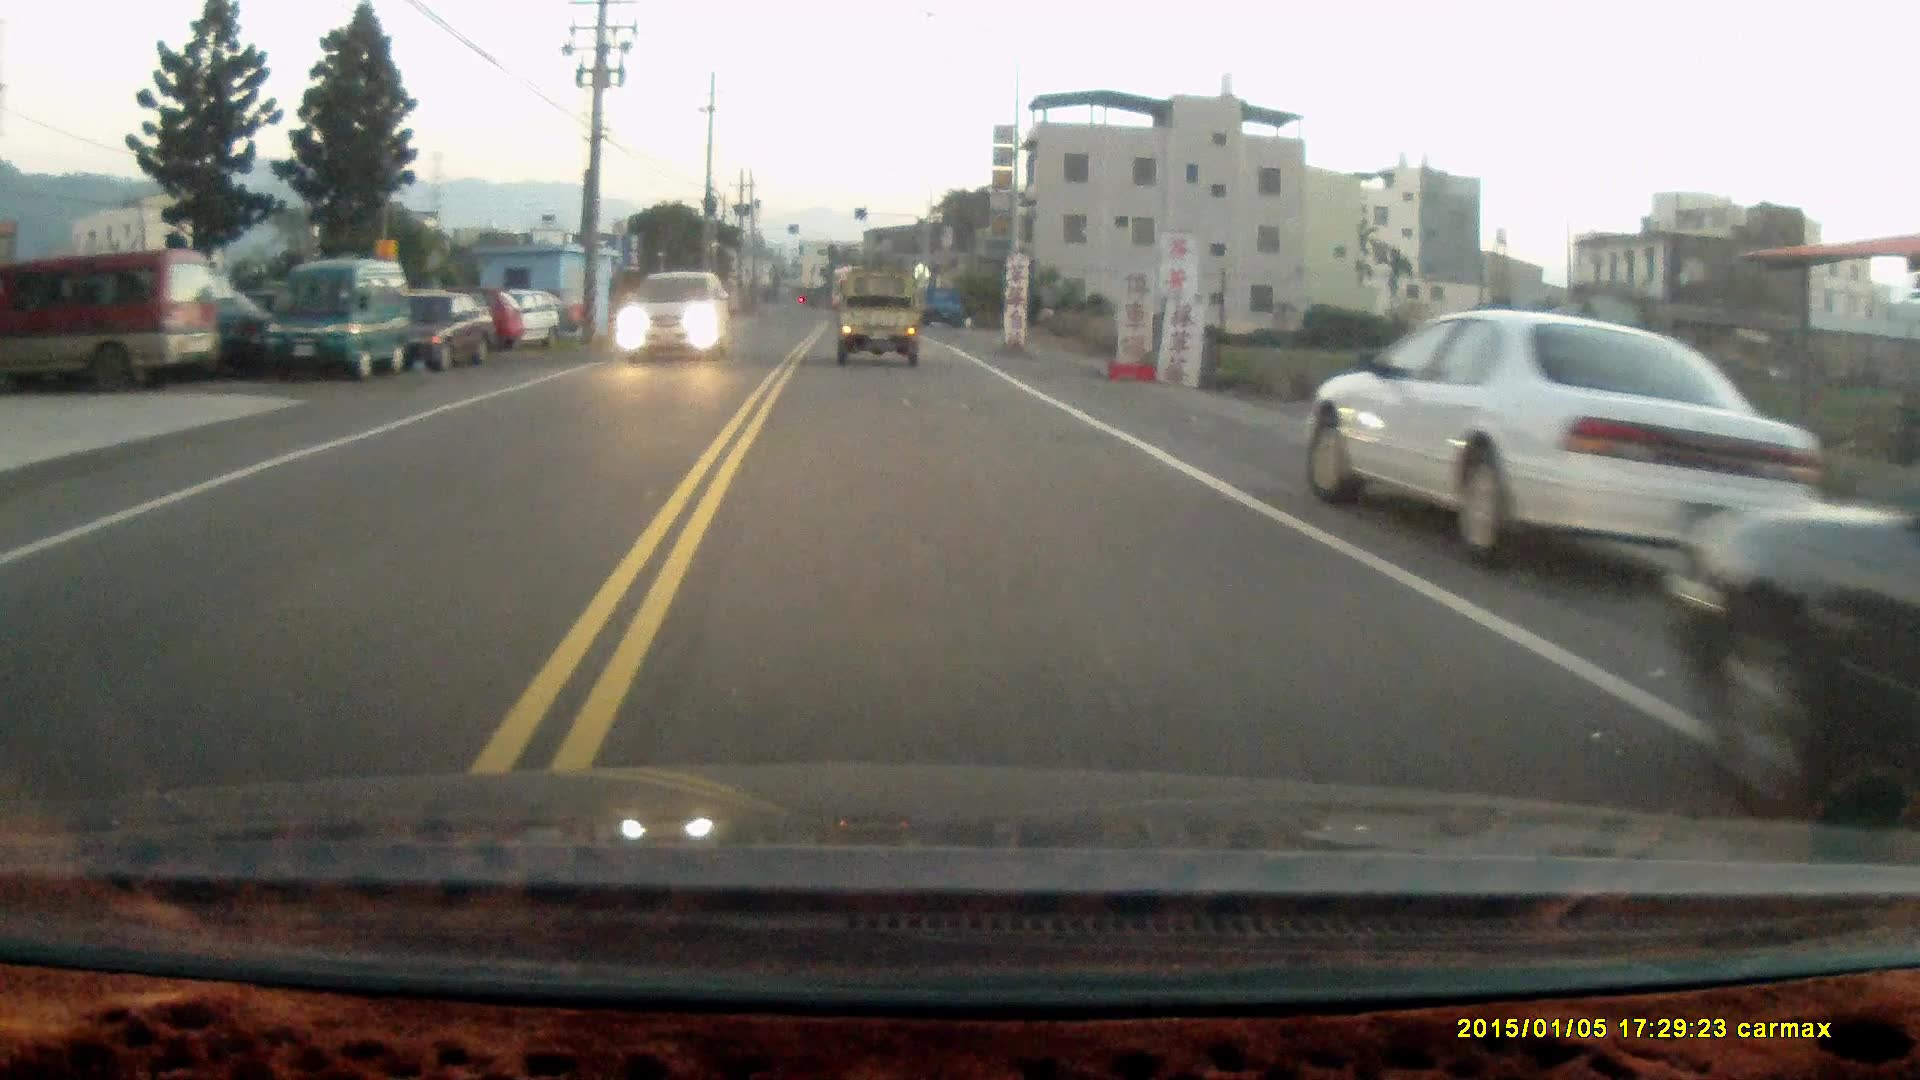vehicle: (1303, 311, 1833, 592), (1673, 454, 1919, 811), (1, 251, 228, 386), (262, 258, 413, 380), (615, 272, 735, 369), (836, 280, 924, 373), (415, 291, 498, 377), (488, 294, 556, 359)
